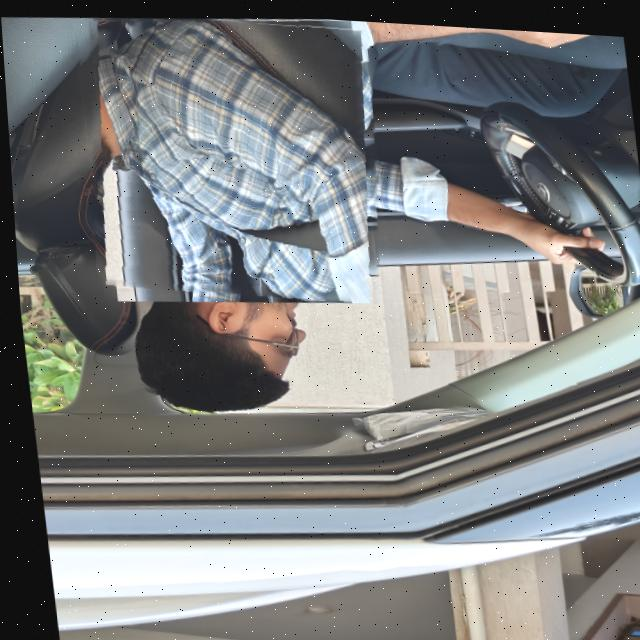seatbelt: (69, 3, 390, 308)
